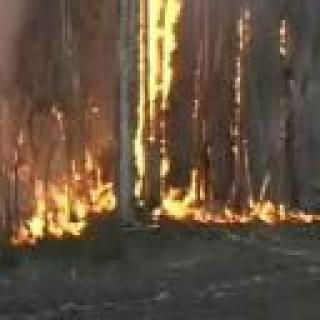fire: (7, 115, 114, 247), (142, 0, 184, 226), (192, 180, 320, 225), (233, 0, 250, 164), (274, 26, 290, 60)
